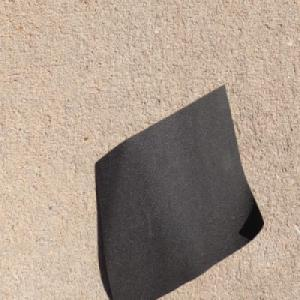PaintChip: (94, 82, 264, 299)
